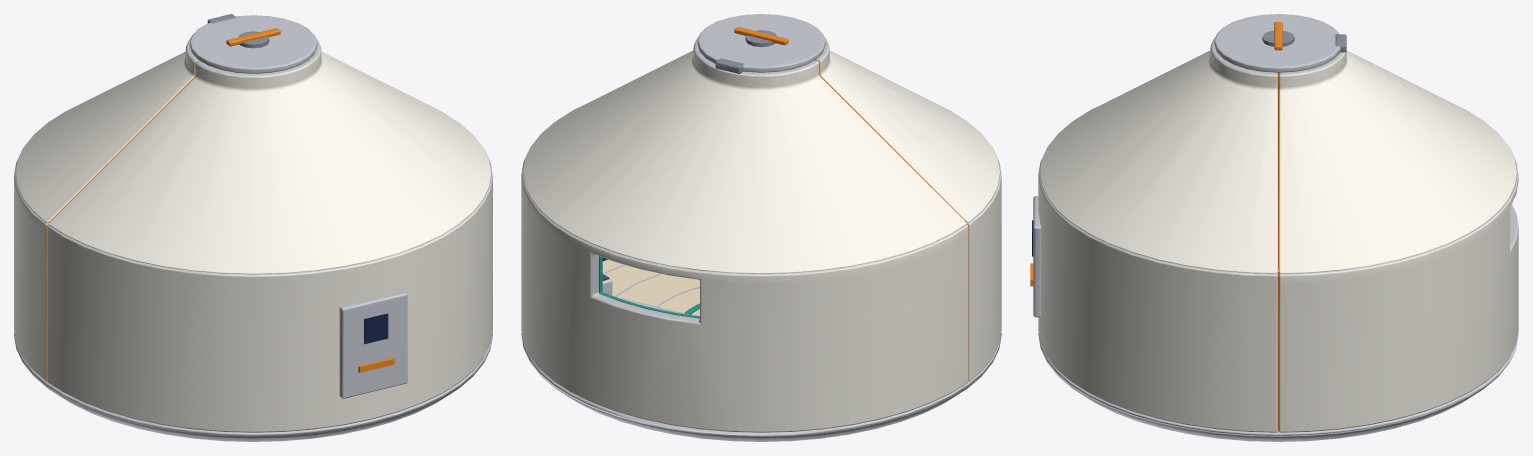
The model's file is Ship_Interior.fbx.
3 renders of one model, left to right at view 1: azimuth 30°, elevation 25°; view 2: azimuth 150°, elevation 25°; view 3: azimuth 270°, elevation 25°, orthographic.
Parts seen in each view (by area): view 1: Ship_Interior.Wall_Front, Ship_Interior.Roof_Front, Ship_Interior.Roof_Back, Ship_Interior.Move_Hatch, Ship_Interior.Wall_Back, Ship_Interior.Floor; view 2: Ship_Interior.Wall_Back, Ship_Interior.Roof_Back, Ship_Interior.Roof_Front, Ship_Interior.Floor, Ship_Interior.Move_Hatch, Ship_Interior.Wall_Front; view 3: Ship_Interior.Roof_Front, Ship_Interior.Roof_Back, Ship_Interior.Wall_Front, Ship_Interior.Wall_Back, Ship_Interior.Move_Hatch, Ship_Interior.Floor.
Boxes of the visible parts, x1=… form: Ship_Interior.Wall_Front: x1=47, y1=155, x2=492, y2=432; Ship_Interior.Roof_Front: x1=48, y1=38, x2=491, y2=274; Ship_Interior.Roof_Back: x1=15, y1=38, x2=457, y2=223; Ship_Interior.Move_Hatch: x1=189, y1=14, x2=317, y2=73; Ship_Interior.Wall_Back: x1=14, y1=155, x2=49, y2=381; Ship_Interior.Floor: x1=14, y1=333, x2=492, y2=441; Ship_Interior.Wall_Back: x1=521, y1=149, x2=968, y2=432; Ship_Interior.Roof_Back: x1=522, y1=37, x2=966, y2=273; Ship_Interior.Roof_Front: x1=556, y1=37, x2=1000, y2=222; Ship_Interior.Floor: x1=521, y1=259, x2=1001, y2=441; Ship_Interior.Move_Hatch: x1=697, y1=14, x2=825, y2=73; Ship_Interior.Wall_Front: x1=602, y1=149, x2=1001, y2=381; Ship_Interior.Roof_Front: x1=1039, y1=37, x2=1278, y2=273; Ship_Interior.Roof_Back: x1=1278, y1=50, x2=1517, y2=273; Ship_Interior.Wall_Front: x1=1030, y1=149, x2=1278, y2=432; Ship_Interior.Wall_Back: x1=1278, y1=149, x2=1518, y2=432; Ship_Interior.Move_Hatch: x1=1214, y1=14, x2=1346, y2=72; Ship_Interior.Floor: x1=1038, y1=269, x2=1518, y2=441.
Size of the model in its own units: 6 by 4.37 by 6.1.
Materials: 1 (1 with a texture image).
